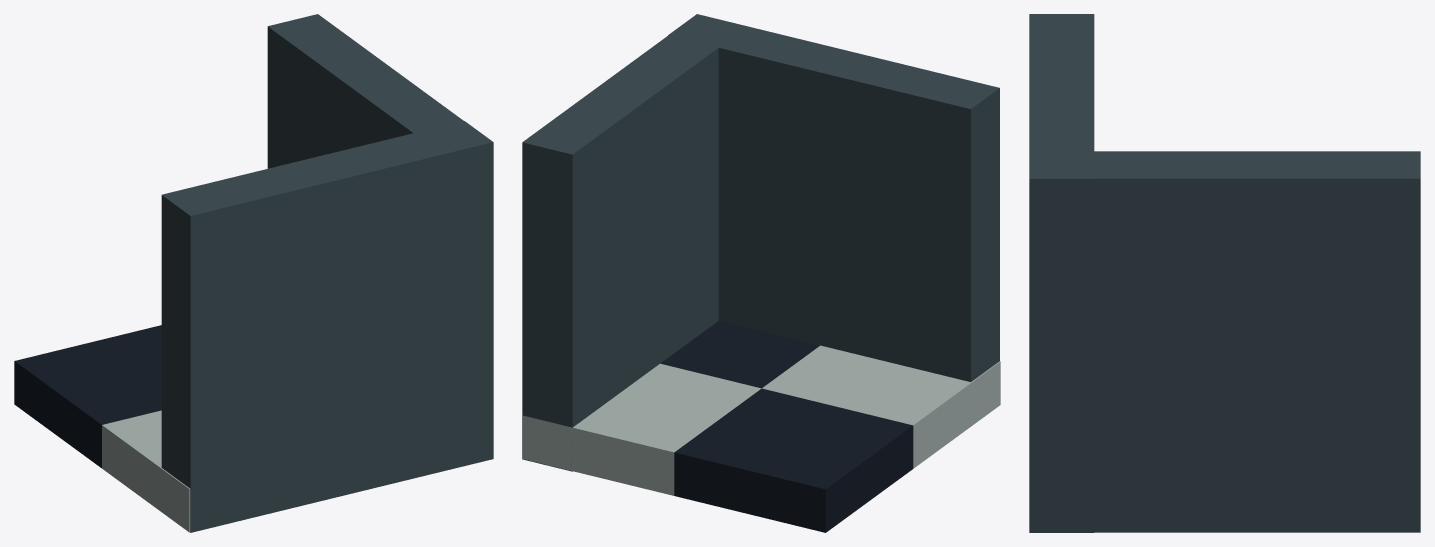
Rendered from floor_corner.gltf.
3 views of the same model, side by side, from view 1: azimuth 30°, elevation 25°; view 2: azimuth 150°, elevation 25°; view 3: azimuth 270°, elevation 25° (orthographic). The views are drawn at different scales.
Parts seen in each view (by area): view 1: Floor_Corner; view 2: Floor_Corner; view 3: Floor_Corner.
Part boxes in pixels (x1=…): Floor_Corner: x1=14, y1=14, x2=493, y2=532; Floor_Corner: x1=522, y1=14, x2=1000, y2=532; Floor_Corner: x1=1029, y1=14, x2=1420, y2=532.
Size of the model in its own units: 2.01 by 2 by 2.
1 material, 1 textured.
